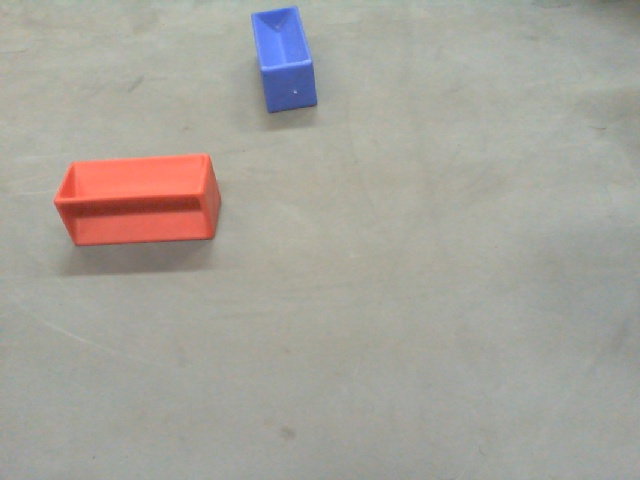BlueSample: (247, 5, 317, 115)
RedSample: (46, 152, 219, 247)
